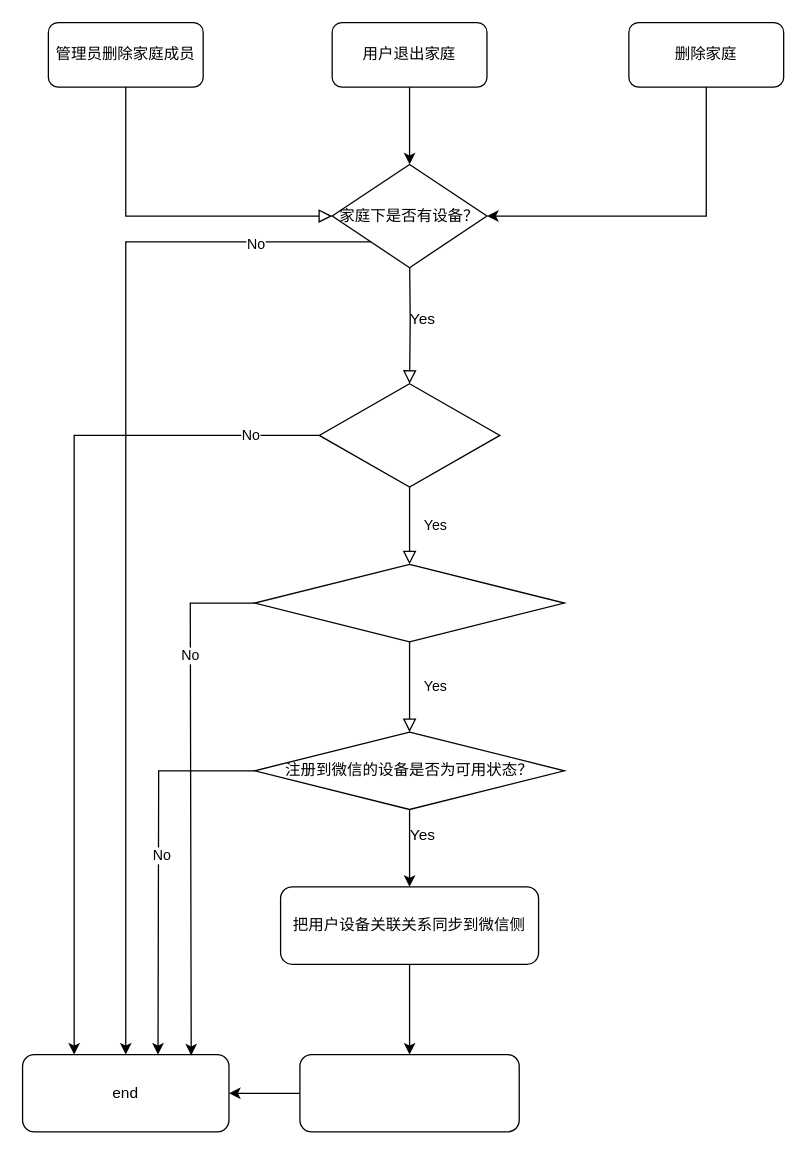
This 806x1155 diagram has some shape labels left out. The shapes that lost their labels are listed below. From the top down, each one's box as (x1, y1, x2, y2) in pixels, then its label:
(318, 382, 500, 487): 用户把该设备添加到了微信？
(253, 563, 564, 642): 用户可以操作设备卡片？
(299, 1053, 519, 1132): 用户设备关联关系设置为不可用状态
